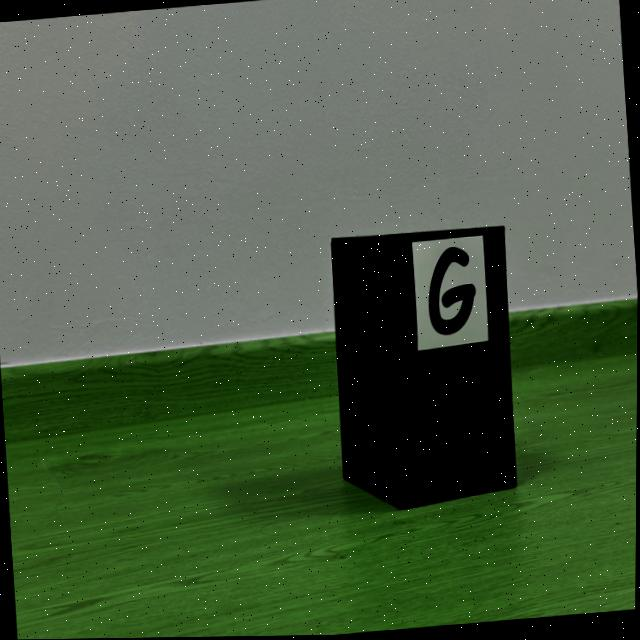G: (429, 248, 476, 336)
